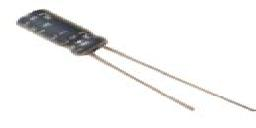Electrolytic Capacitor: (15, 8, 256, 123)
